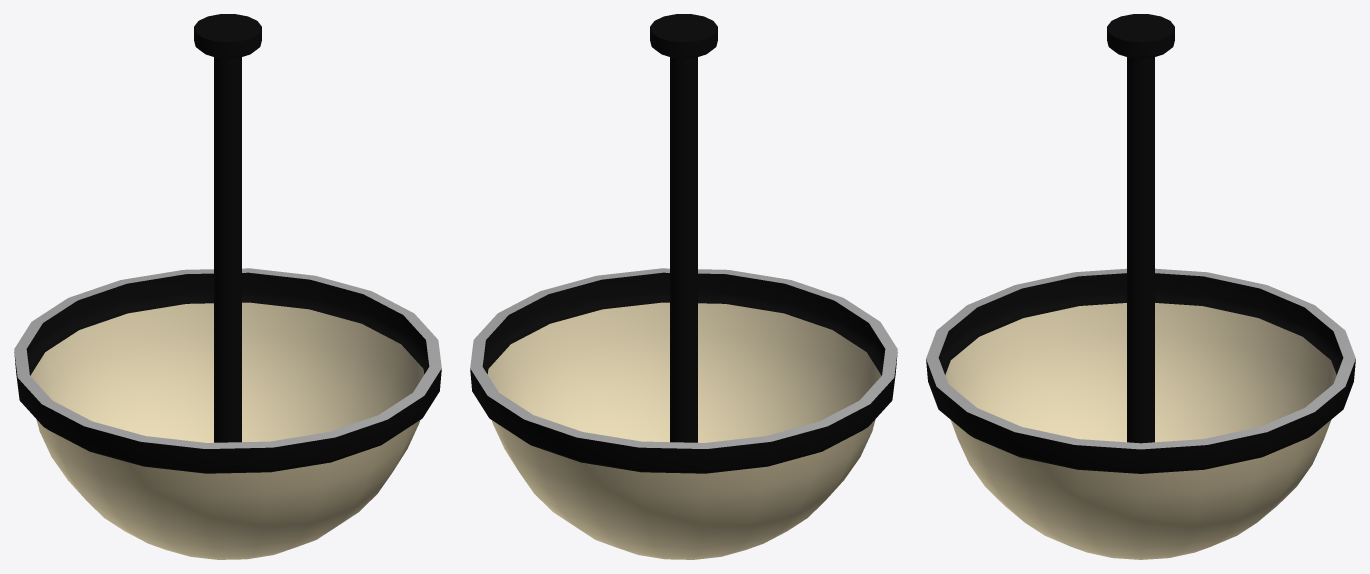
File: WW_CinemaLight_geo_01.fbx
3 renders of one model, left to right at view 1: azimuth 30°, elevation 25°; view 2: azimuth 150°, elevation 25°; view 3: azimuth 270°, elevation 25°, orthographic.
Visible parts, largest first — view 1: CinemaLightGlass_geo_01, CinemaLightBase_geo_01; view 2: CinemaLightGlass_geo_01, CinemaLightBase_geo_01; view 3: CinemaLightGlass_geo_01, CinemaLightBase_geo_01.
Boxes of the visible parts, x1,y1,x2,y2 form: CinemaLightGlass_geo_01: [14, 268, 441, 559]; CinemaLightBase_geo_01: [194, 14, 261, 442]; CinemaLightGlass_geo_01: [470, 268, 897, 559]; CinemaLightBase_geo_01: [650, 14, 717, 442]; CinemaLightGlass_geo_01: [926, 268, 1355, 559]; CinemaLightBase_geo_01: [1107, 14, 1174, 443].
Bounding box in the file's own units: 56.08 × 73.85 × 56.08.
